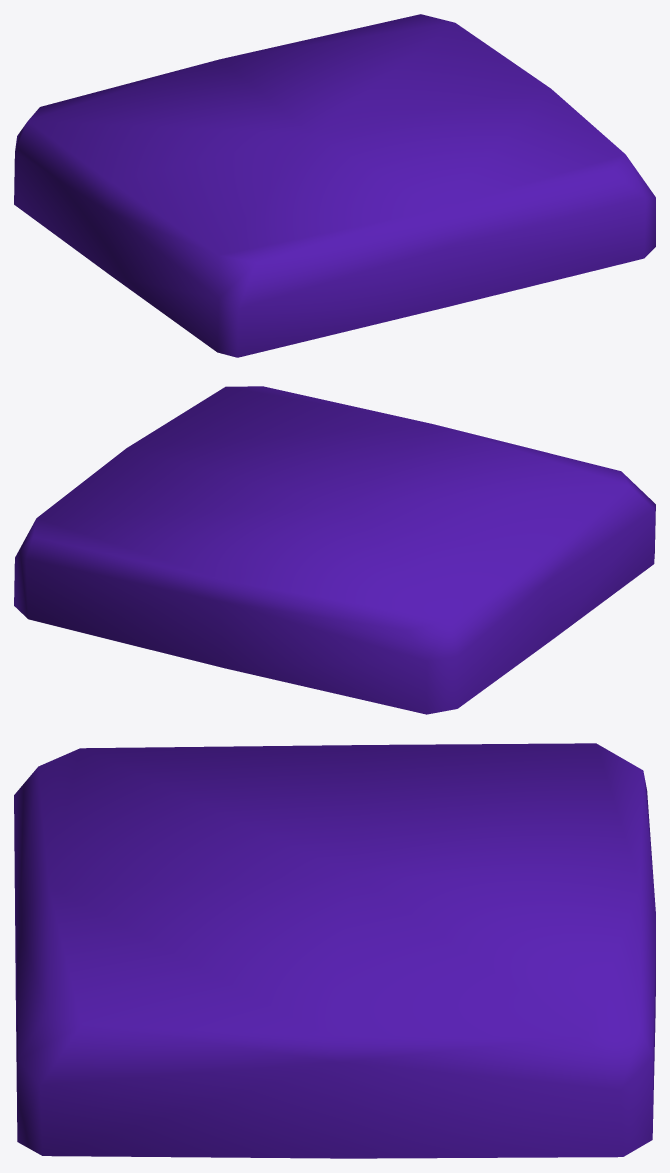
File: flor_stone_03.FBX
3 views of the same model, one above another, from view 1: azimuth 30°, elevation 25°; view 2: azimuth 150°, elevation 25°; view 3: azimuth 270°, elevation 25° (orthographic). The views are drawn at different scales.
Parts seen in each view (by area): view 1: flor_stone_03; view 2: flor_stone_03; view 3: flor_stone_03.
Part boxes in pixels (x1=…): flor_stone_03: x1=14, y1=14, x2=655, y2=357; flor_stone_03: x1=14, y1=386, x2=655, y2=714; flor_stone_03: x1=14, y1=743, x2=655, y2=1158.
Bounding box in the file's own units: 13.24 × 2.51 × 11.85.
